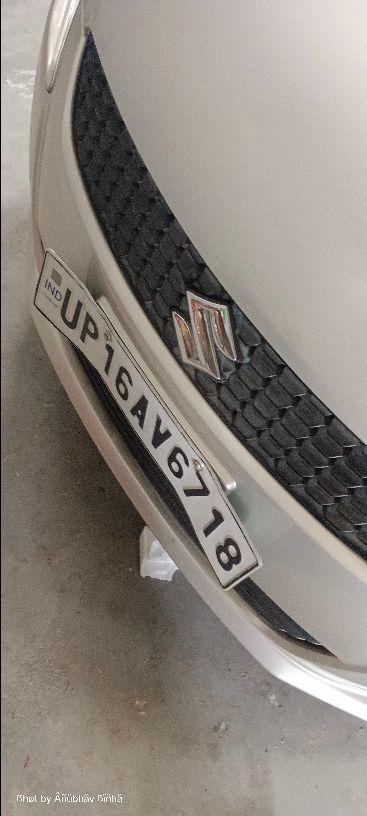license_plate: (27, 0, 365, 720), (32, 246, 263, 592)
